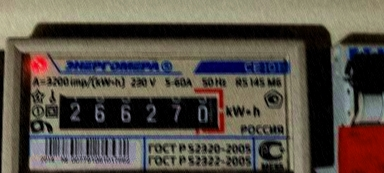0: (192, 102, 206, 122)
2: (65, 100, 78, 121), (142, 102, 155, 122)
6: (90, 101, 102, 122), (116, 102, 129, 121)
7: (168, 102, 178, 121)
screen: (44, 83, 227, 138)
